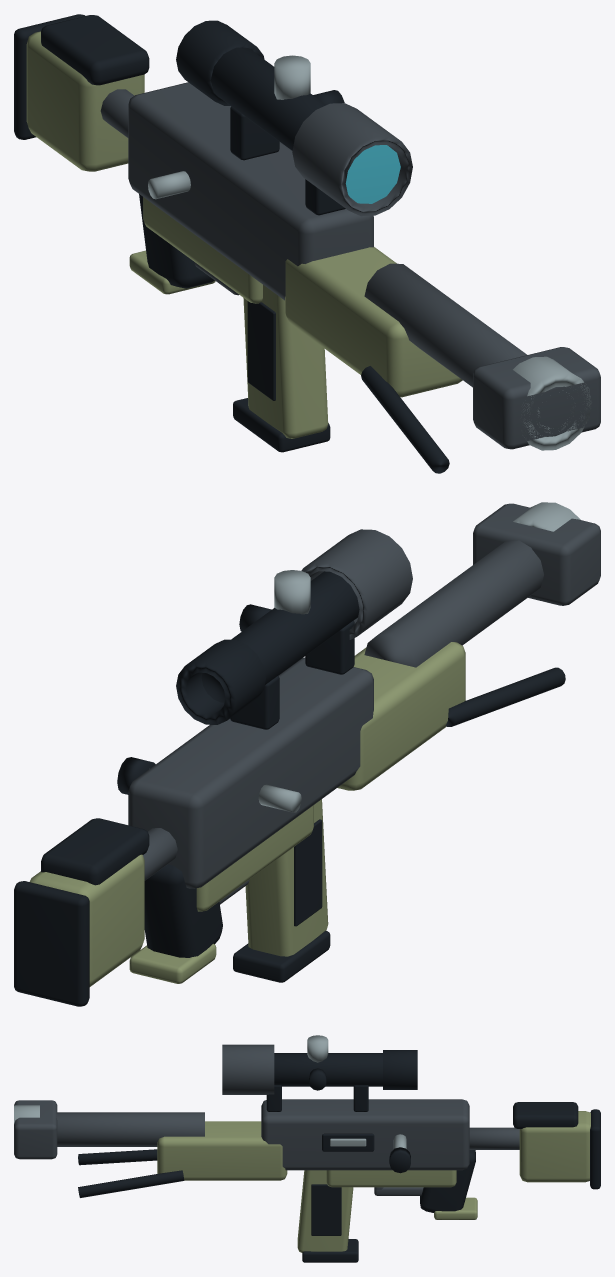
3 views of the same model, one above another, from view 1: azimuth 30°, elevation 25°; view 2: azimuth 150°, elevation 25°; view 3: azimuth 270°, elevation 25° (orthographic). The views are drawn at different scales.
Parts seen in each view (by area): view 1: m82_Cerakote graphite, m82_m82 painted furniture, m82_Recesses and rubber, m82_Machined edges, m82_Optic blue glass; view 2: m82_Cerakote graphite, m82_Recesses and rubber, m82_m82 painted furniture, m82_Machined edges; view 3: m82_Cerakote graphite, m82_Recesses and rubber, m82_m82 painted furniture, m82_Machined edges.
Part boxes in pixels (x1,y1,x2,y2): m82_Cerakote graphite: (100, 82, 600, 449); m82_m82 painted furniture: (26, 31, 462, 438); m82_Recesses and rubber: (14, 14, 449, 473); m82_Machined edges: (148, 55, 591, 450); m82_Optic blue glass: (345, 145, 400, 203); m82_Cerakote graphite: (128, 503, 600, 904); m82_Recesses and rubber: (14, 571, 565, 1006); m82_m82 painted furniture: (29, 642, 465, 986); m82_Machined edges: (149, 502, 580, 812); m82_Cerakote graphite: (14, 1044, 519, 1195); m82_Recesses and rubber: (78, 1050, 600, 1262); m82_m82 painted furniture: (157, 1111, 590, 1252); m82_Machined edges: (14, 1035, 406, 1148).
Size of the model in its own units: 0.3315 by 0.7163 by 1.76.
